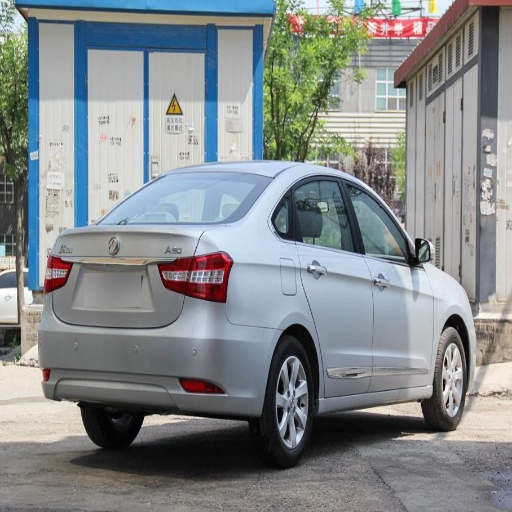back_bumper: (34, 294, 278, 417)
back_right_door: (288, 173, 373, 397)
